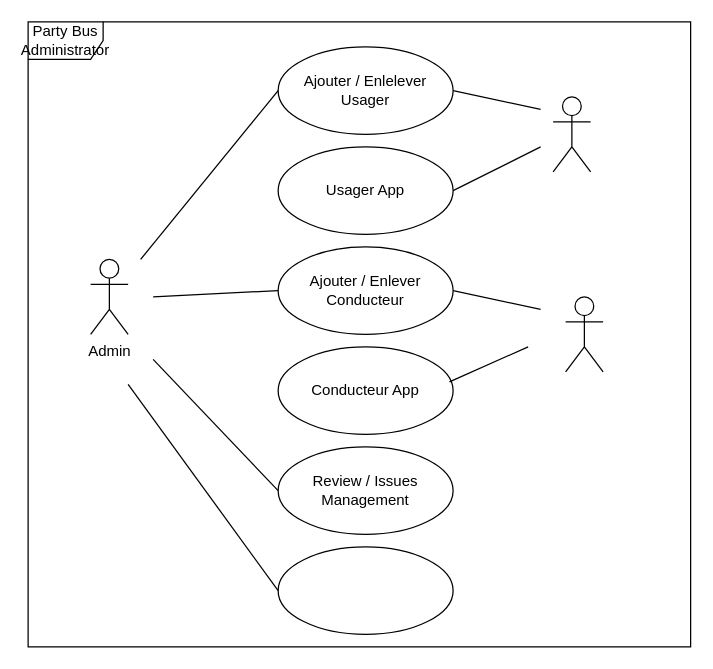
Image size: 713x669. Some labels were removed from this diagram. The shapes that lost their labels are listed below. From the top down, each one's centre as x and y in pixels, then its label:
point (571, 134): Usager
point (583, 334): Conducteur
point (365, 590): Authorization
